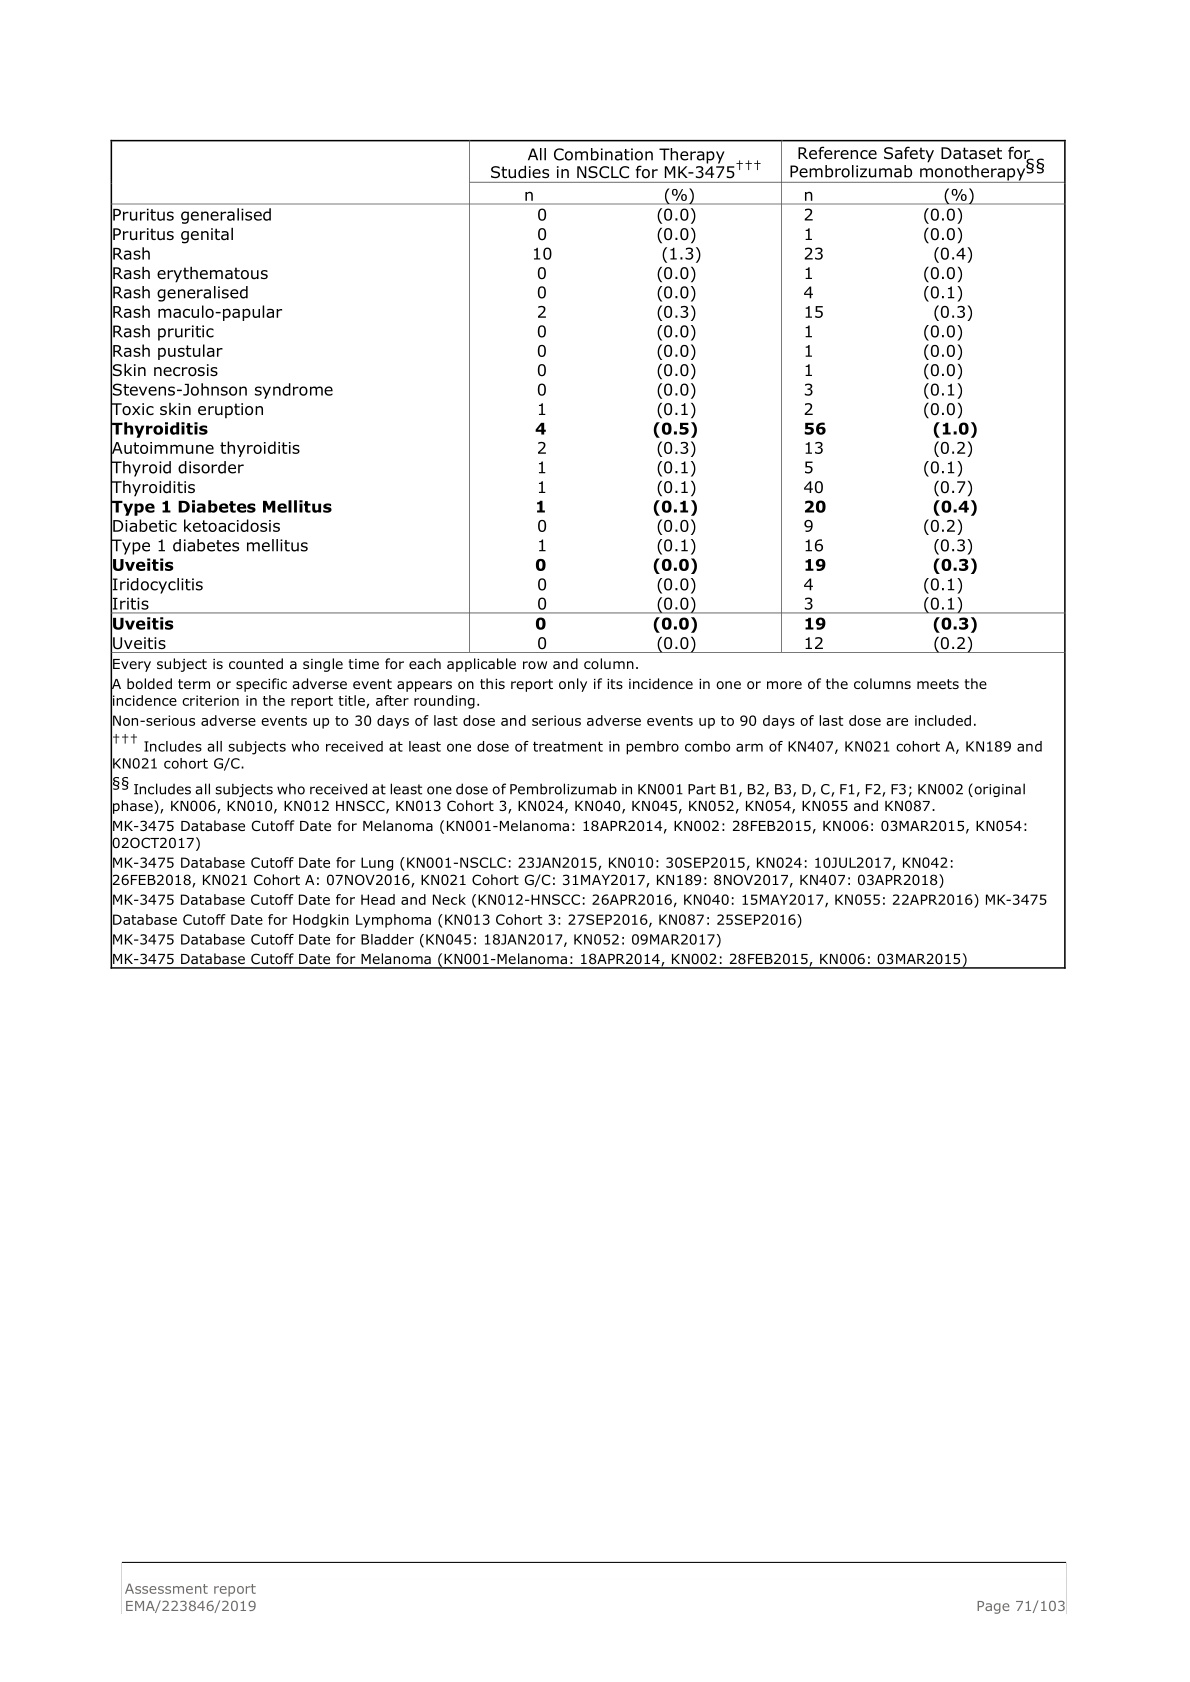partial_lined: (109, 138, 1066, 654)
